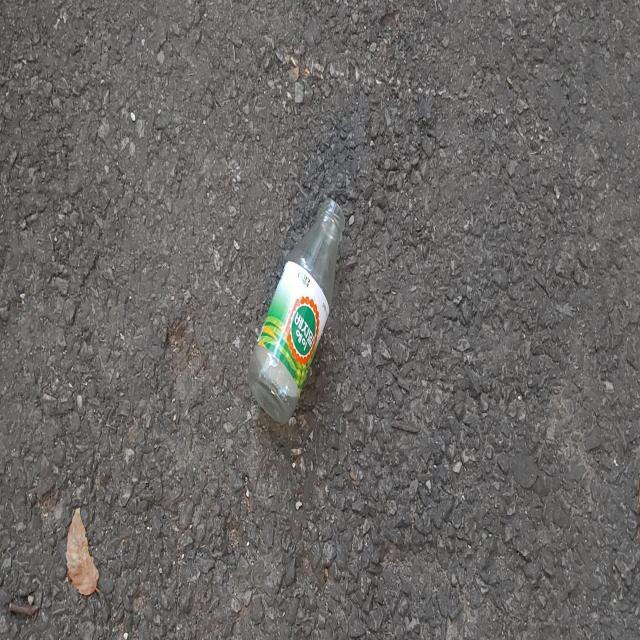glass: (248, 198, 345, 423)
